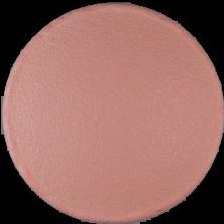50090-0023: (0, 0, 224, 224)
